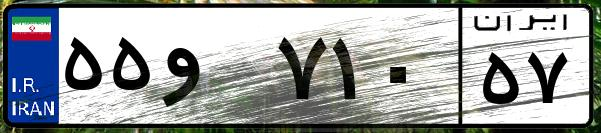0: (385, 28, 445, 110)
1: (330, 28, 385, 110)
5: (57, 26, 110, 100), (475, 38, 525, 113), (110, 28, 158, 98)
7: (270, 28, 330, 110), (525, 38, 570, 115)
و: (158, 20, 270, 120)
